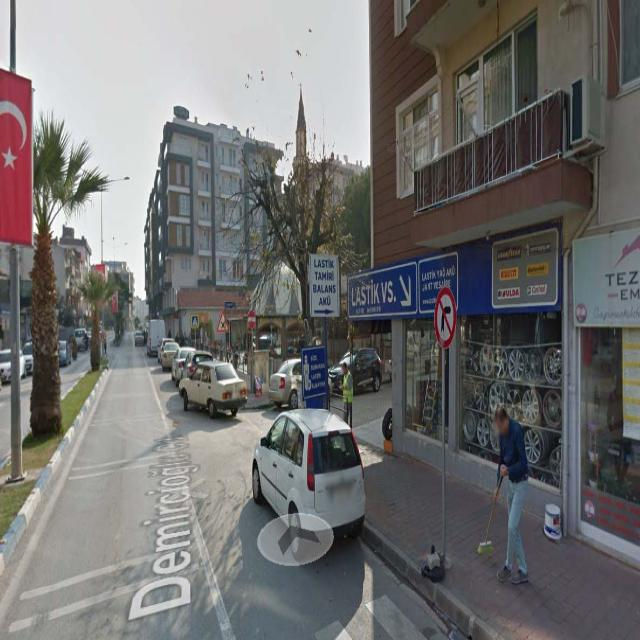girisyok: (248, 310, 255, 330)
sagadonulmez: (435, 290, 456, 348)
